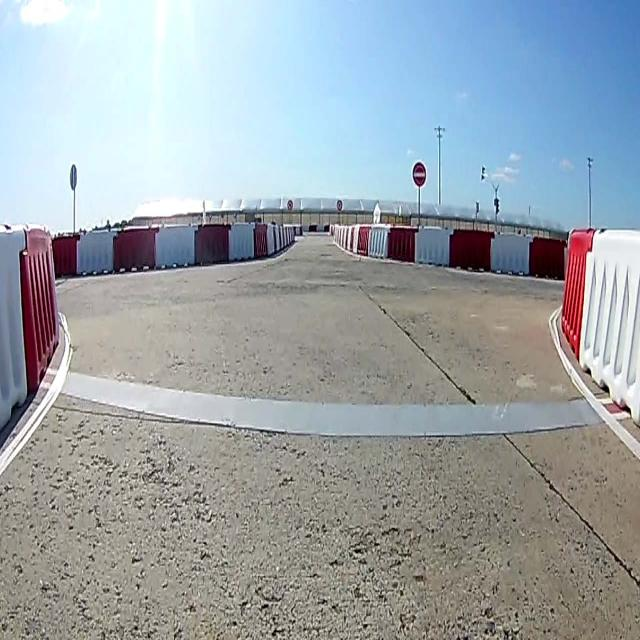girisyok: (412, 162, 426, 186)
